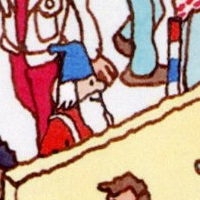wb: (57, 41, 105, 107)
